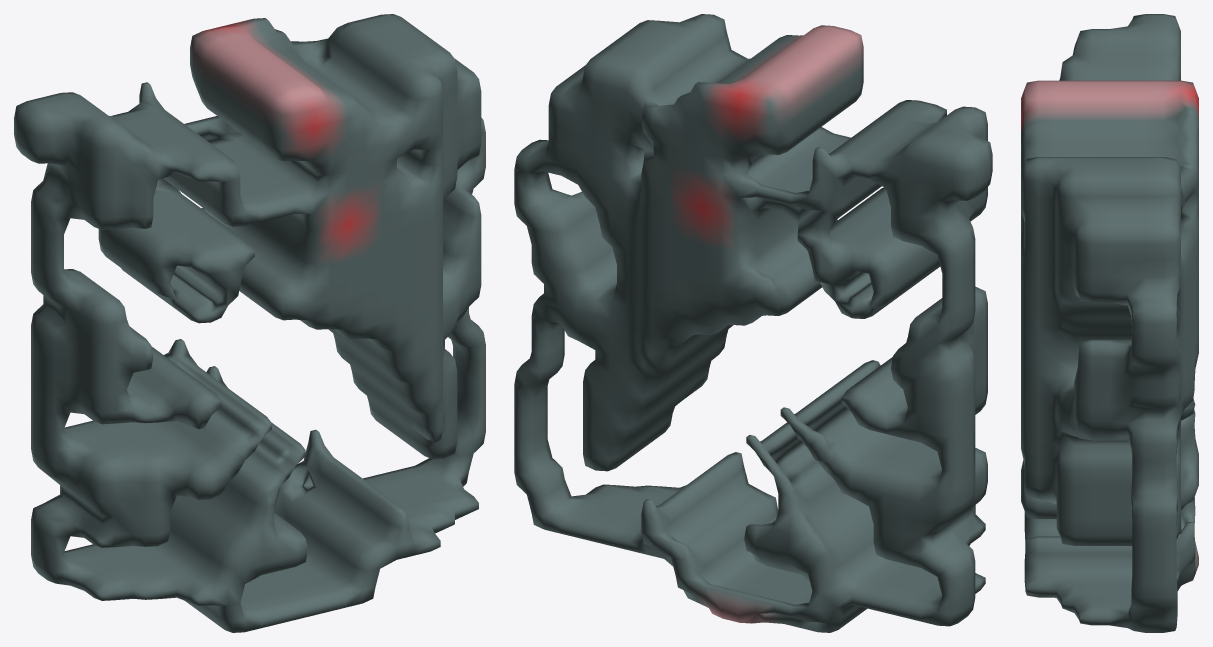
3 renders of one model, left to right at view 1: azimuth 30°, elevation 25°; view 2: azimuth 150°, elevation 25°; view 3: azimuth 270°, elevation 25°, orthographic. The views are drawn at different scales.
Size of the model in its own units: 1.35 by 1.5 by 0.5.
